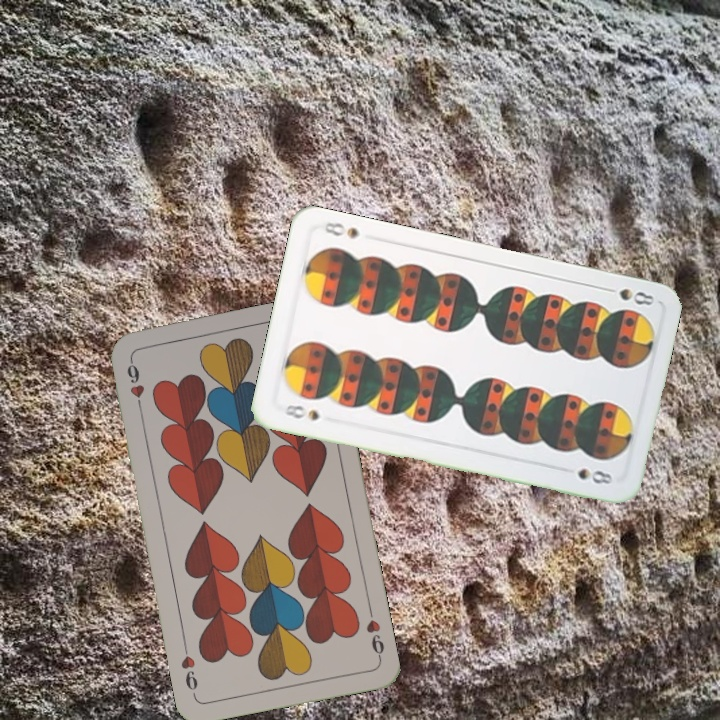H9: (362, 604, 387, 663), (123, 355, 147, 414)
S8: (598, 283, 657, 308), (280, 400, 322, 423)
